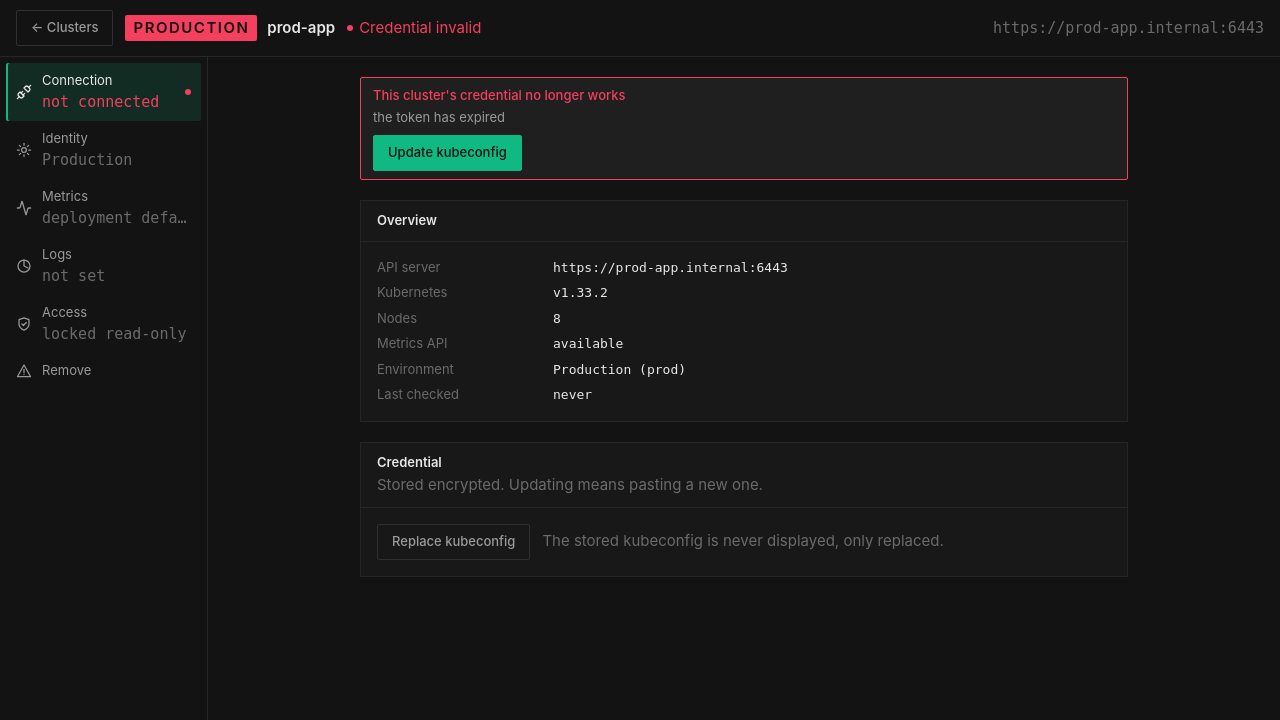
Test case: cluster detail › keeps removing a cluster somewhere you have to mean to arrive
expect the text "Remove cluster" is not shown: met
Click the button "Remove" at (104, 371), box [6,353,201,388]
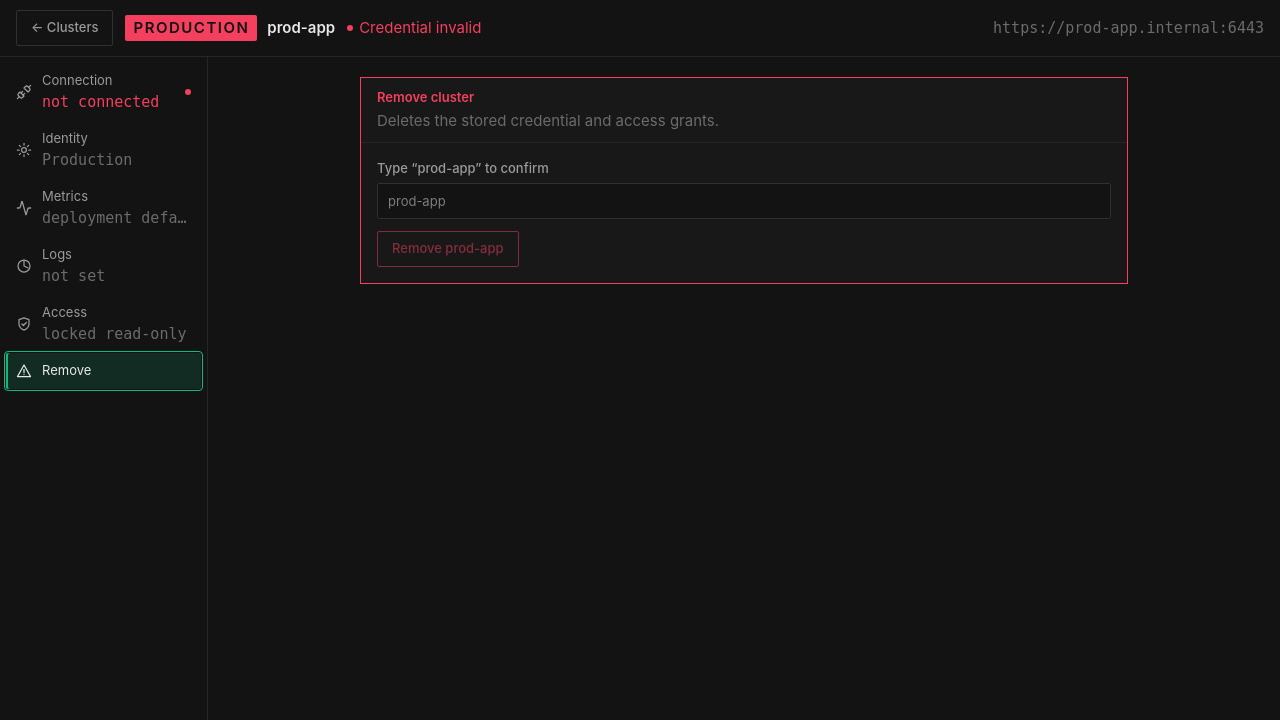
expect the heading "Remove cluster" is shown: met, box [377,89,474,105]
expect the field labelled "Type “prod-app” to confirm" is shown: met, box [377,182,1111,218]
